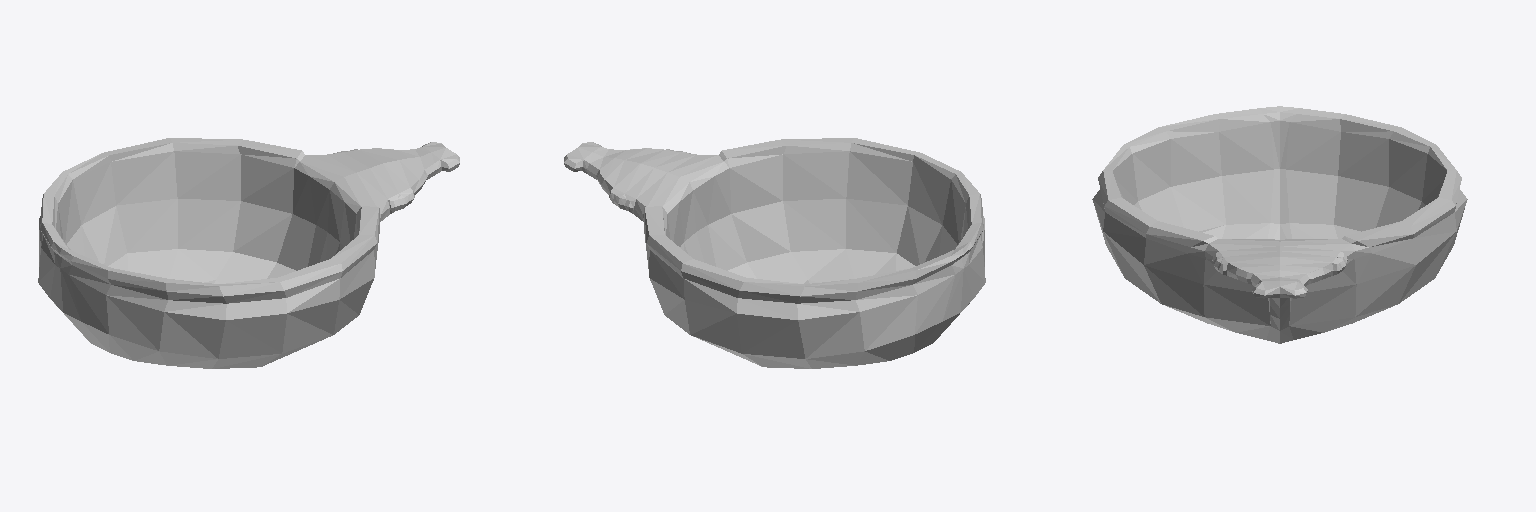
The model's file is WoodBowl.obj.
The picture shows the model from 3 angles: view 1: azimuth 30°, elevation 25°; view 2: azimuth 150°, elevation 25°; view 3: azimuth 270°, elevation 25°; orthographic projection.
Parts seen in each view (by area): view 1: Applied; view 2: Applied; view 3: Applied.
Part boxes in pixels (bbox=[...]): Applied: bbox=[38, 138, 459, 368]; Applied: bbox=[564, 138, 985, 368]; Applied: bbox=[1092, 106, 1467, 343].
Bounding box in the file's own units: 3.86 × 1.17 × 3.2.